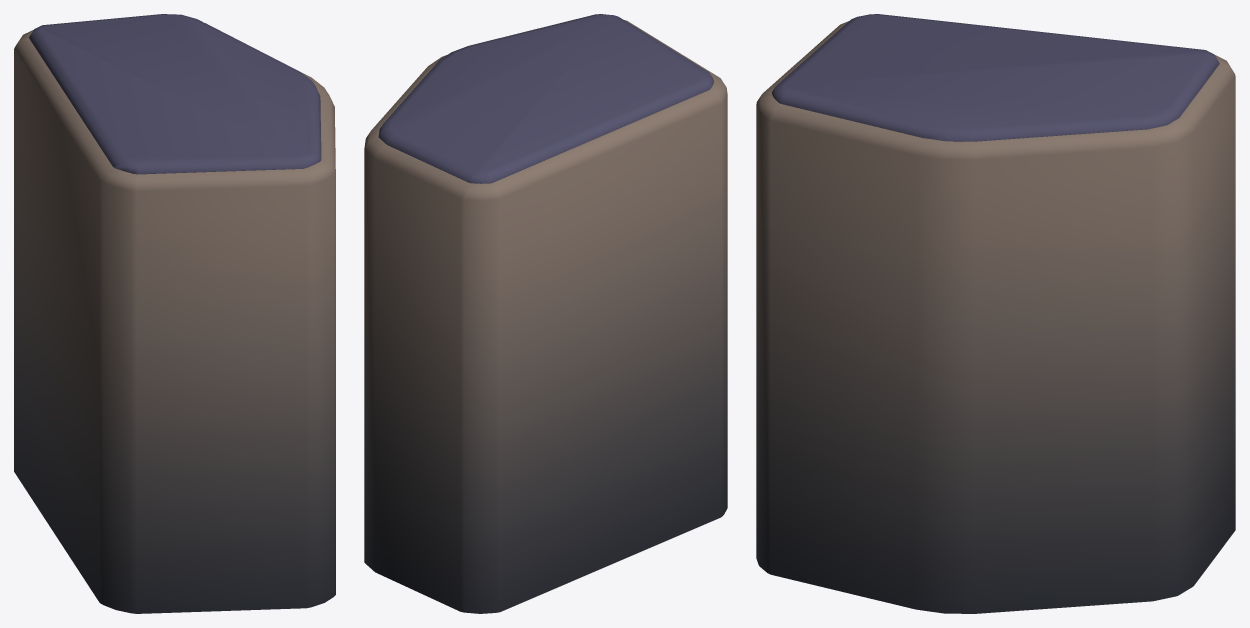
File: NightRock1.fbx
The picture shows the model from 3 angles, left to right: view 1: azimuth 30°, elevation 25°; view 2: azimuth 150°, elevation 25°; view 3: azimuth 270°, elevation 25°; orthographic projection. The views are drawn at different scales.
Visible parts, largest first — view 1: Rock1.005; view 2: Rock1.005; view 3: Rock1.005.
Boxes of the visible parts, box(x1,y1,x2,y2) form: Rock1.005: box(14, 14, 335, 613); Rock1.005: box(364, 14, 727, 613); Rock1.005: box(756, 14, 1235, 613).
Size of the model in its own units: 1249 by 2022 by 1852.
